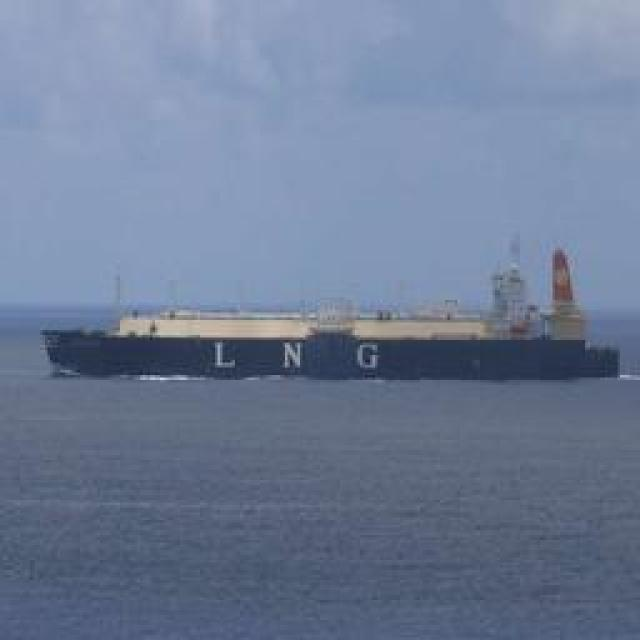CIV_Ship: (42, 311, 588, 379)
